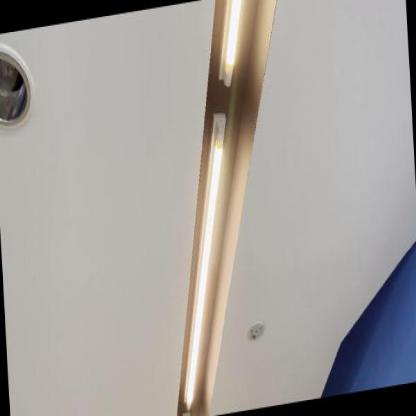light_on: (156, 107, 244, 415), (206, 0, 250, 94)
